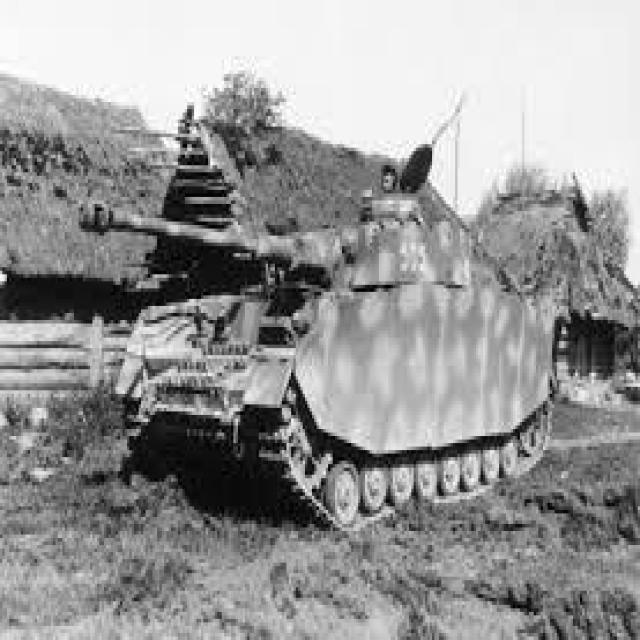Tanks: (22, 37, 572, 614)
